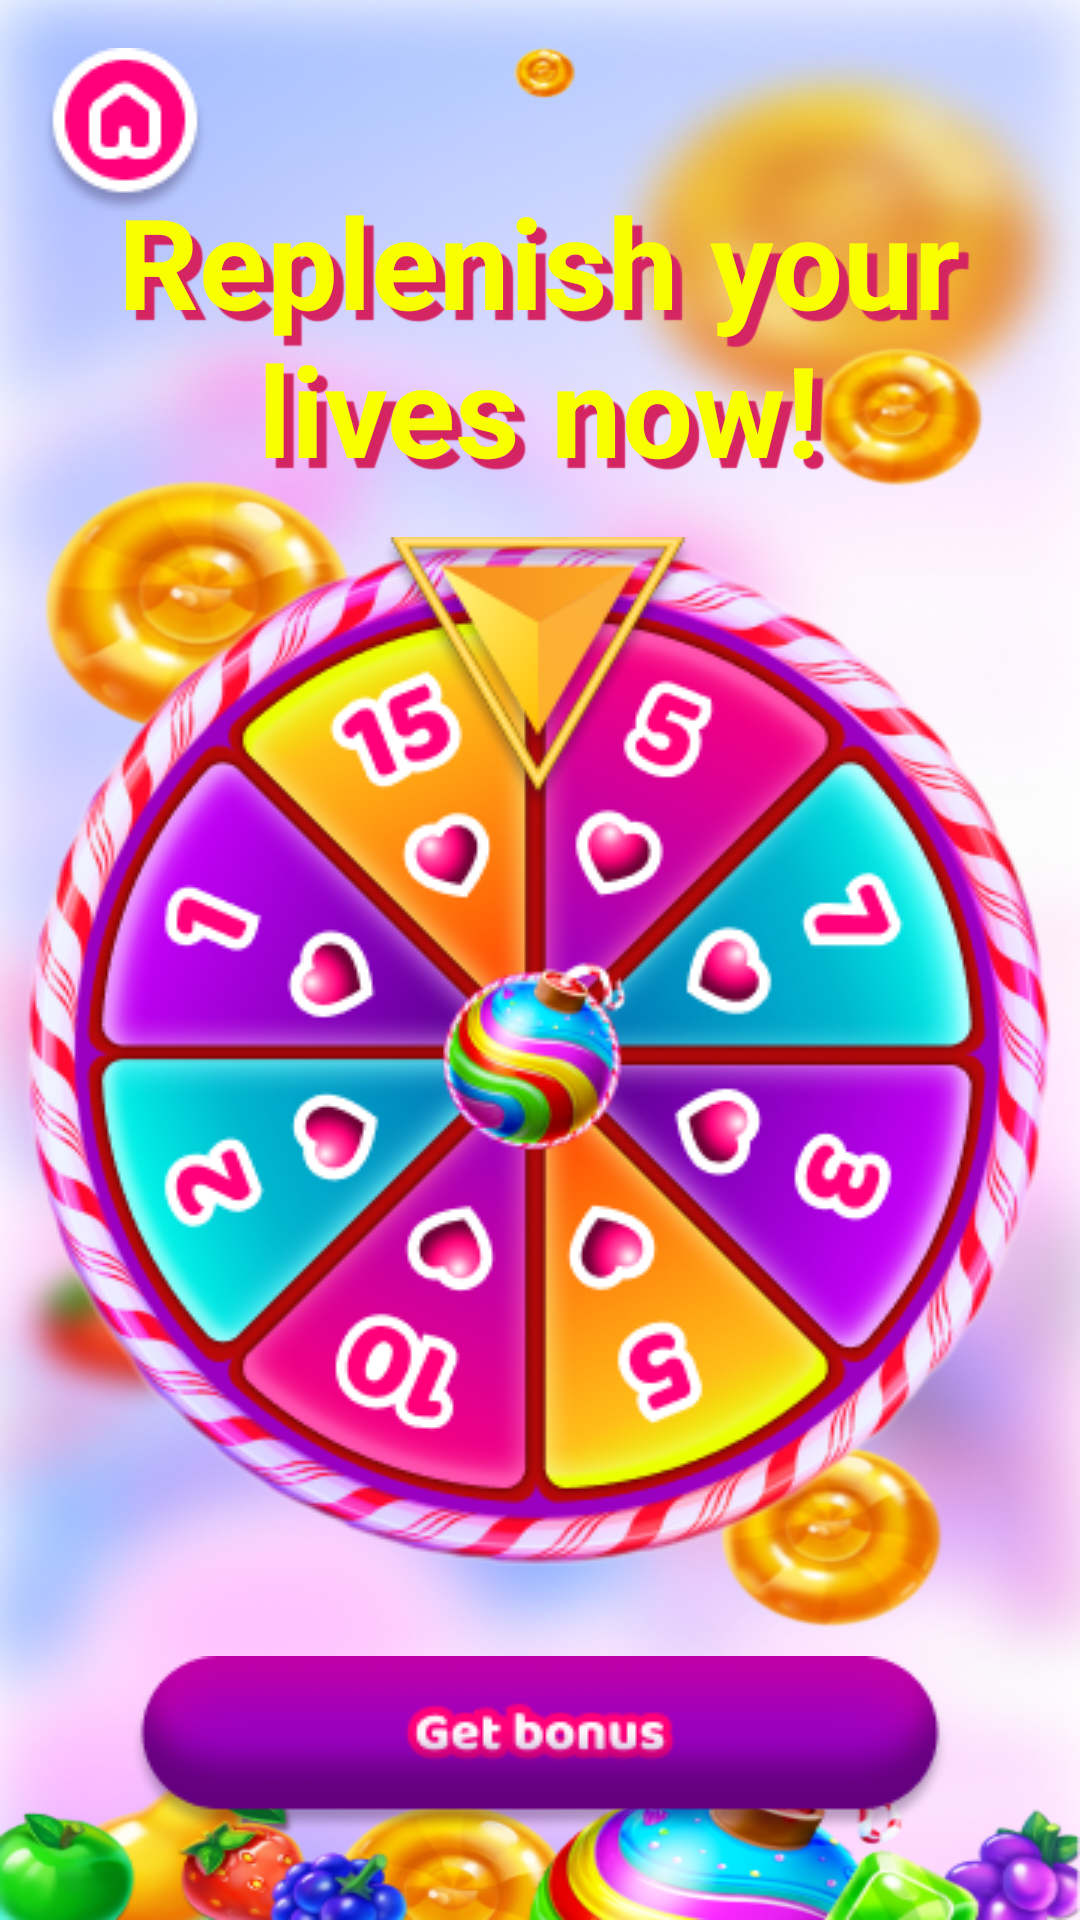

Screen size 1080px x 1920px. Icon name, then its box in pixels as bbox(x1, y1, x2, y2):
home: bbox(51, 48, 198, 206)
